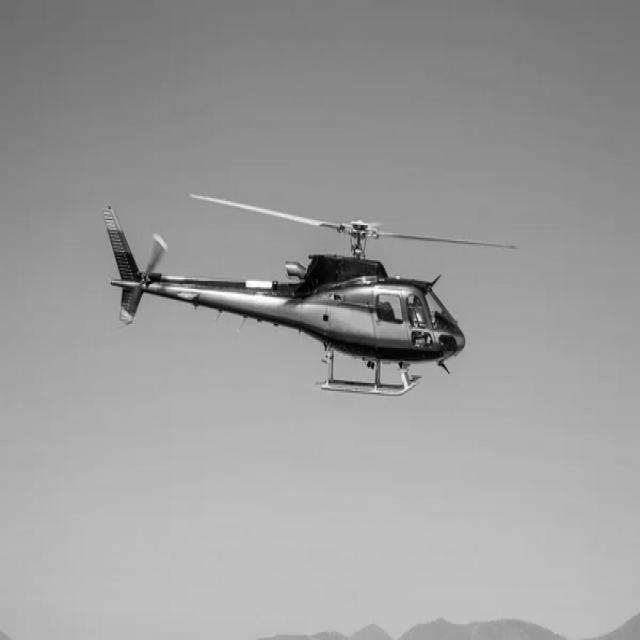Helicopter: (102, 195, 513, 395)
